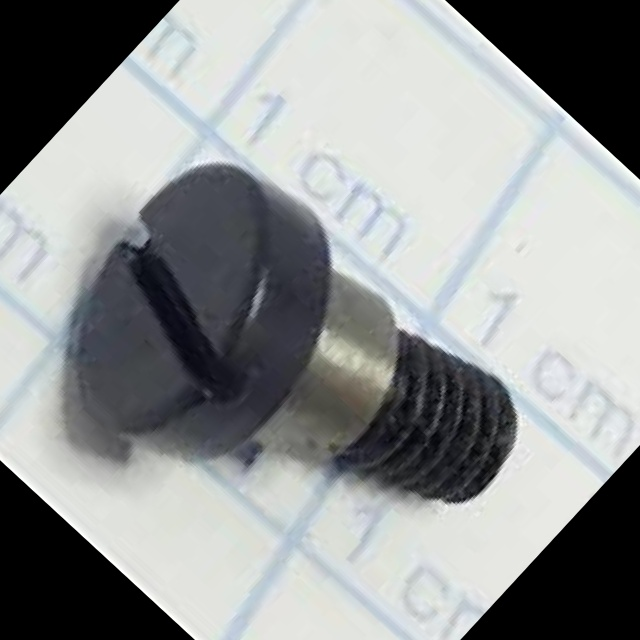duz: (10, 122, 392, 507)
